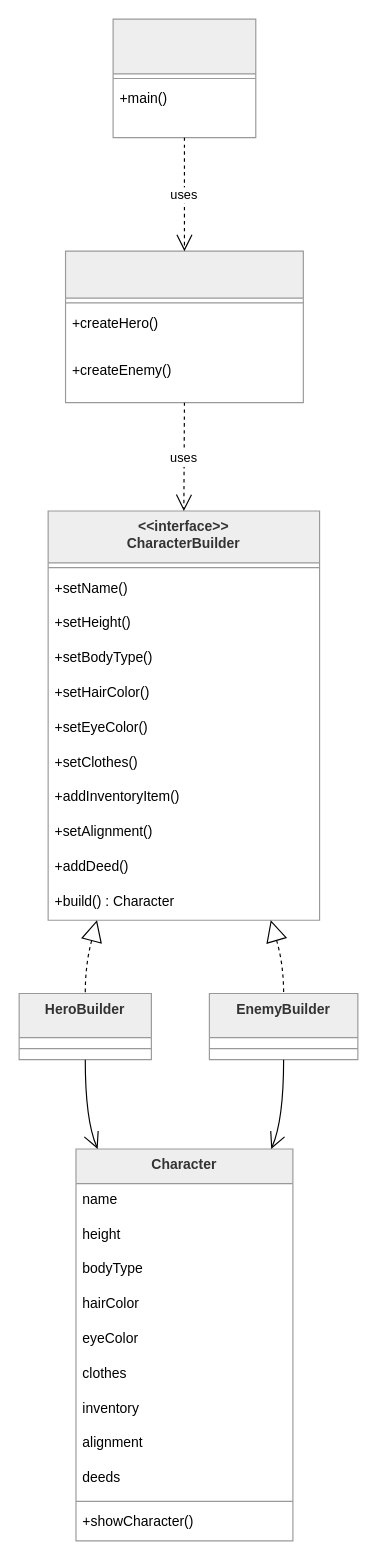
Image size: 377x1560. Some labels were removed from this diagram. Each missing label, with the box of its shape:
CharacterDirector: (64, 250, 303, 403)
MainBuilder: (112, 18, 256, 138)
